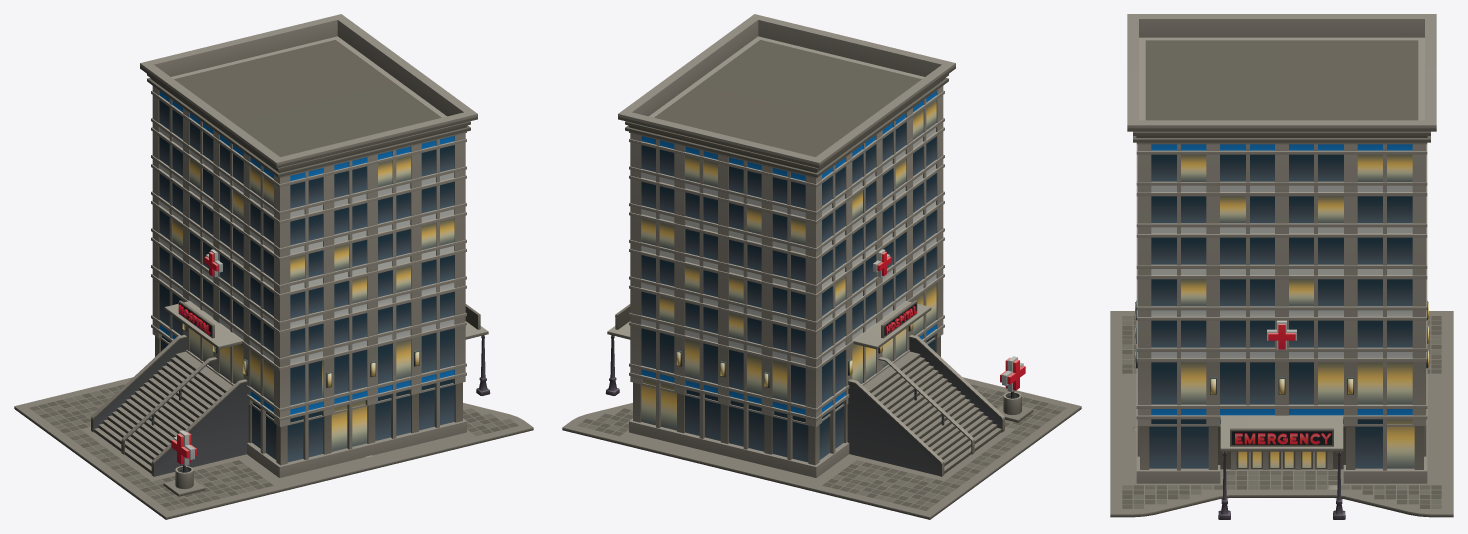
Rendered from Building_17B.fbx.
The picture shows the model from 3 angles, left to right: view 1: azimuth 30°, elevation 25°; view 2: azimuth 150°, elevation 25°; view 3: azimuth 270°, elevation 25°; orthographic projection. The views are drawn at different scales.
Parts seen in each view (by area): view 1: Building_17B, Window_Lights_17B, Logo_17B; view 2: Building_17B, Window_Lights_17B, Logo_17B; view 3: Building_17B, Window_Lights_17B, Title_17B.R.
Part boxes in pixels (<box>): Building_17B: <box>14,14,533,519</box>; Window_Lights_17B: <box>172,155,454,451</box>; Logo_17B: <box>171,430,196,465</box>; Building_17B: <box>562,14,1081,519</box>; Window_Lights_17B: <box>641,100,936,430</box>; Logo_17B: <box>1000,356,1025,391</box>; Building_17B: <box>1110,14,1453,519</box>; Window_Lights_17B: <box>1181,154,1414,468</box>; Title_17B.R: <box>1235,433,1331,444</box>.
Bounding box in the file's own units: 4255 × 3520 × 3000.
